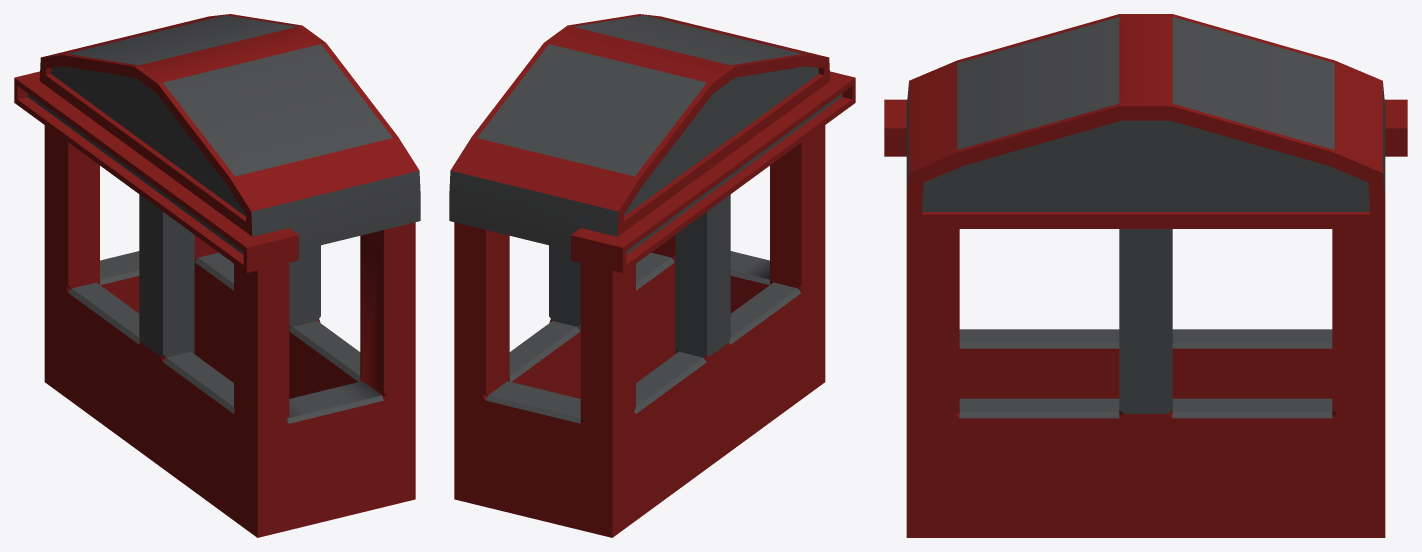
File: Large Stall Textured.FBX
3 renders of one model, left to right at view 1: azimuth 30°, elevation 25°; view 2: azimuth 150°, elevation 25°; view 3: azimuth 270°, elevation 25°, orthographic. The views are drawn at different scales.
Visible parts, largest first — view 1: Large Stall; view 2: Large Stall; view 3: Large Stall.
Part boxes in pixels (left/top/right/bottom): Large Stall: left=14, top=14, right=420, bottom=537; Large Stall: left=449, top=14, right=855, bottom=537; Large Stall: left=884, top=14, right=1407, bottom=537.
Bounding box in the file's own units: 7.58 × 15.22 × 16.62.
3 materials, 2 textured.
